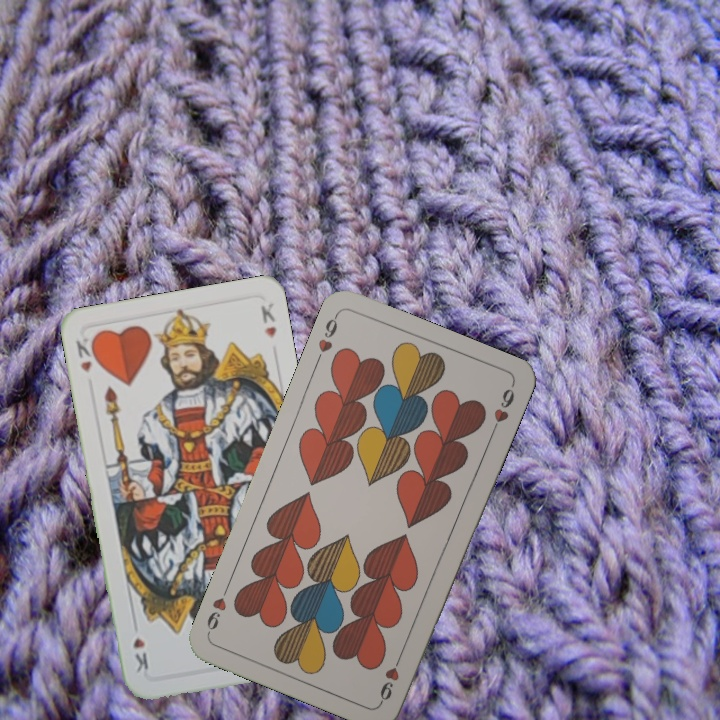H9: (375, 649, 405, 706), (314, 310, 341, 355)
HK: (71, 330, 101, 375)
